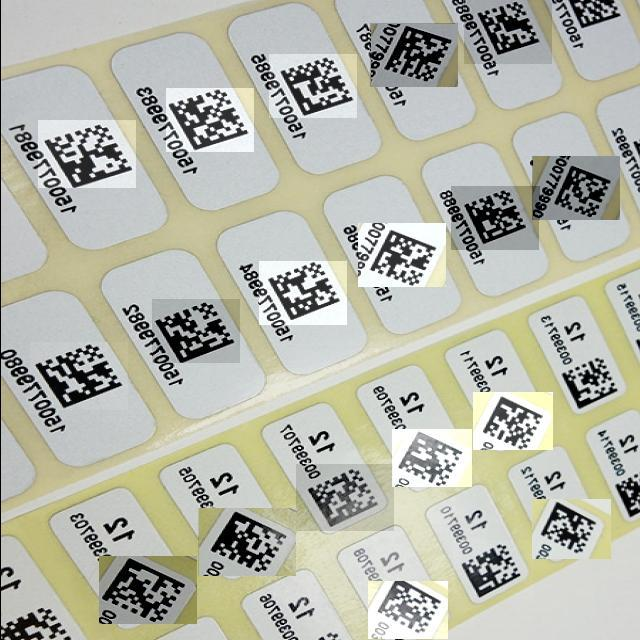Data-Matrix: (37, 120, 135, 188), (29, 342, 127, 410), (98, 556, 196, 624), (197, 508, 295, 576), (295, 464, 393, 531), (151, 299, 239, 363), (258, 261, 346, 325), (357, 223, 445, 287), (450, 186, 538, 250), (531, 156, 619, 220), (463, 0, 551, 64), (369, 23, 457, 87), (268, 54, 356, 118), (165, 88, 253, 152), (531, 499, 610, 559), (549, 352, 629, 411), (452, 540, 532, 599), (391, 429, 471, 487), (472, 392, 552, 450), (367, 581, 447, 639)
